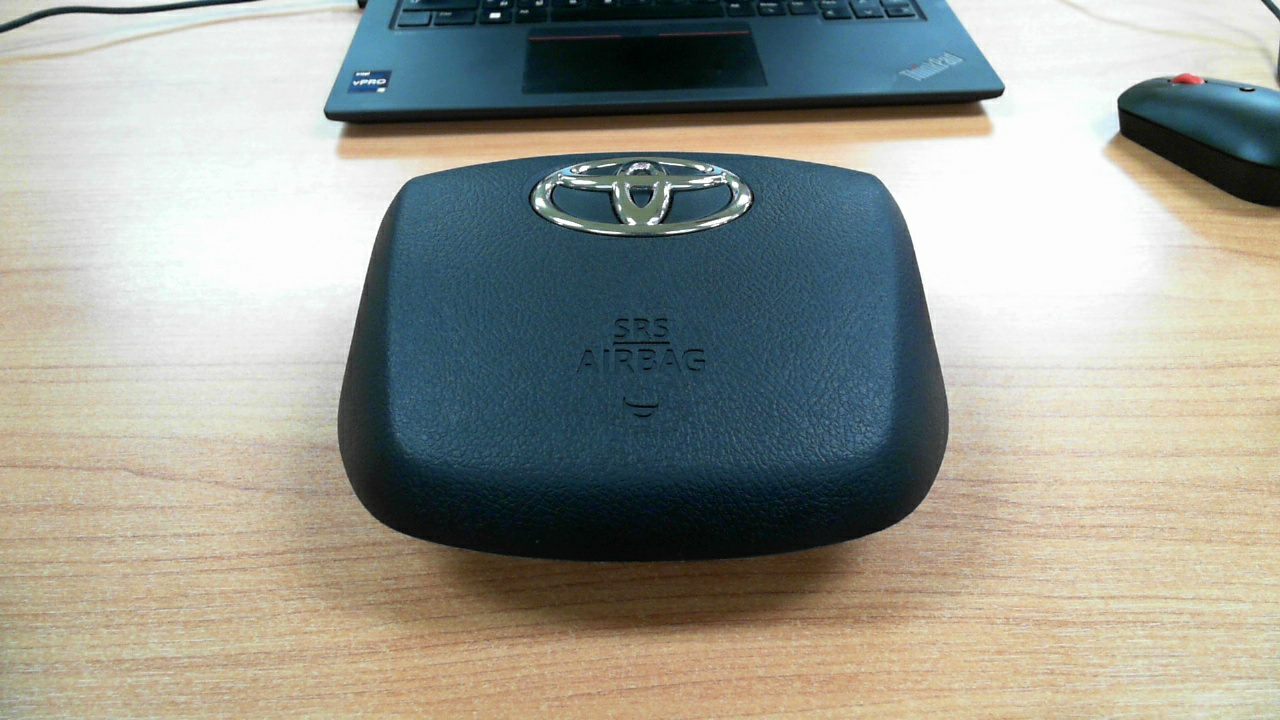Airbag: (313, 120, 966, 624)
